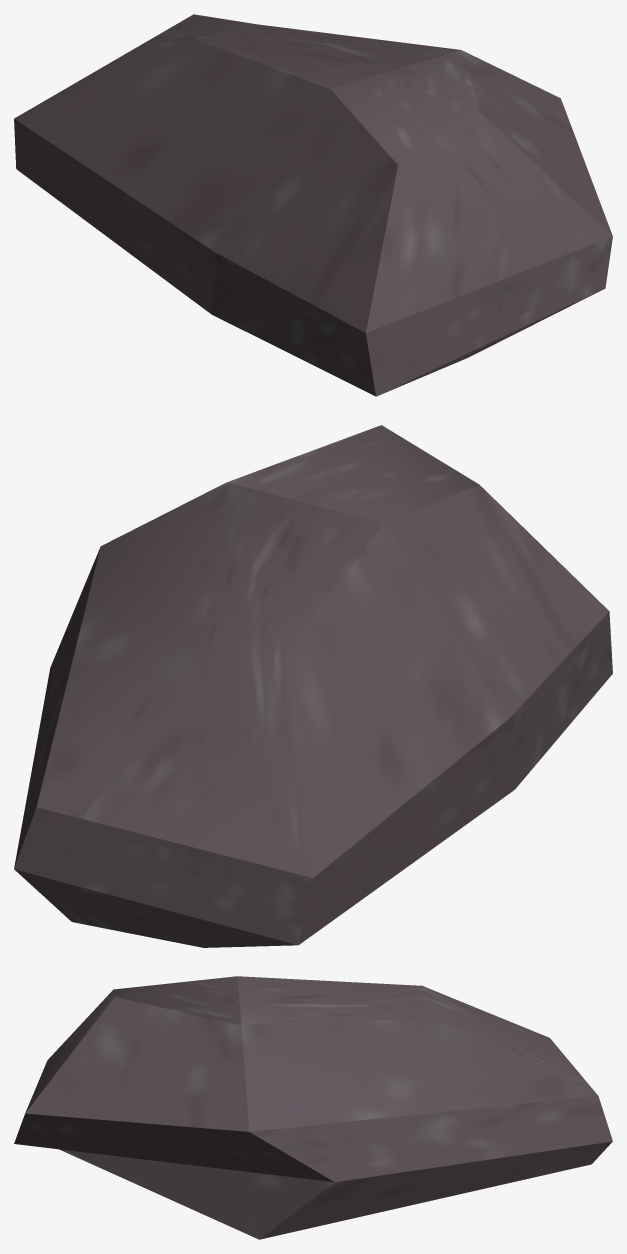
File: StoneE-smll.FBX
3 renders of one model, top to bottom at view 1: azimuth 30°, elevation 25°; view 2: azimuth 150°, elevation 25°; view 3: azimuth 270°, elevation 25°, orthographic. The views are drawn at different scales.
Visible parts, largest first — view 1: StoneE-smll; view 2: StoneE-smll; view 3: StoneE-smll.
Boxes of the visible parts, x1,y1,x2,y2 form: StoneE-smll: (14,14,612,396); StoneE-smll: (14,425,612,947); StoneE-smll: (14,976,612,1239).
Size of the model in its own units: 34.97 by 26.15 by 60.11.
1 material, 1 textured.
